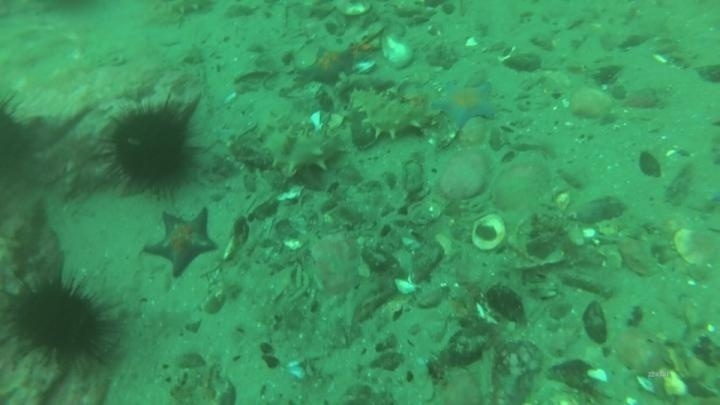echinus: (4, 272, 119, 372), (101, 95, 201, 196), (1, 95, 39, 183)
holothurian: (250, 120, 349, 179), (346, 85, 438, 143), (148, 1, 217, 23)
starfish: (142, 207, 219, 279), (430, 79, 499, 132), (299, 44, 357, 86)
